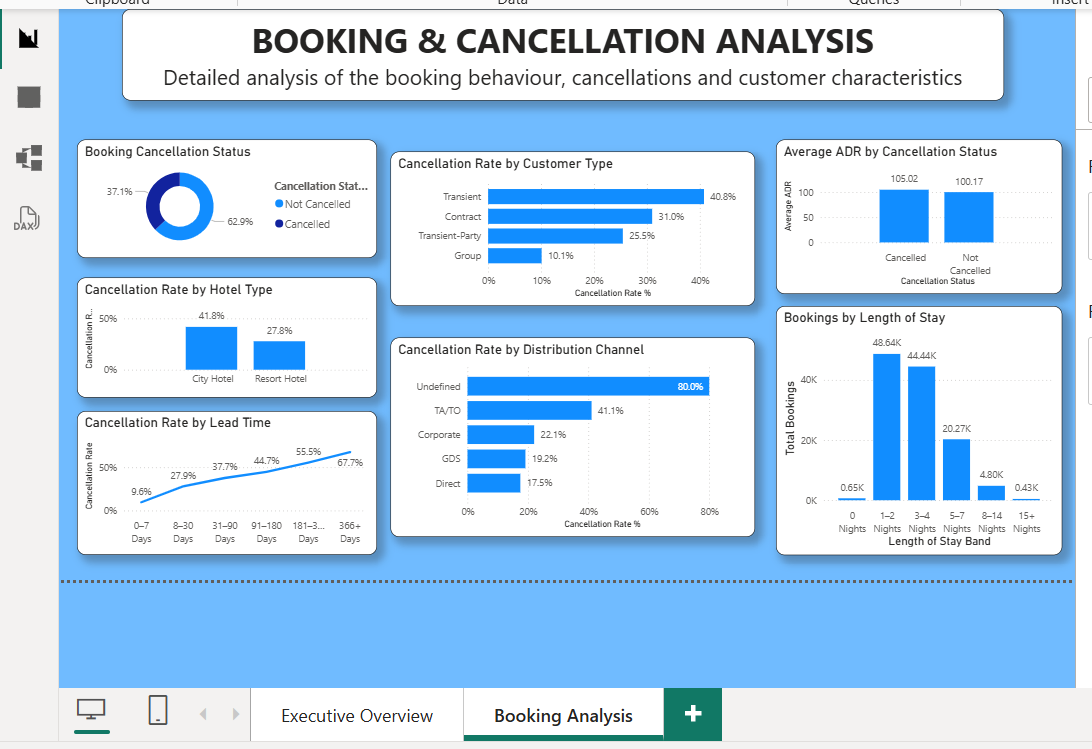

This screenshot's page, from the dashboard's own definition file:
{"tool":"powerbi","page":{"name":"Booking Analysis","canvas":[1280,720],"ordinal":1},"visuals":[{"type":"textbox","box":[79.4,0,1111.2,115.3],"z":0},{"type":"donutChart","title":"Booking Cancellation Status","fields":{"Y":["FactBookings.Total Bookings"],"Category":["FactBookings.Cancellation Status"]},"box":[22.7,164.4,378,149.3],"z":1},{"type":"clusteredColumnChart","title":"Cancellation Rate by Hotel Type","fields":{"Category":["DimHotel.hotel"],"Y":["FactBookings.Cancellation Rate %"]},"box":[22.7,338.3,378,151.2],"z":2},{"type":"lineChart","title":"Cancellation Rate by Lead Time","fields":{"Y":["FactBookings.Cancellation Rate %"],"Category":["FactBookings.Lead Time Band"]},"box":[22.7,506.5,378,181.4],"z":3},{"type":"clusteredBarChart","title":"Cancellation Rate by Customer Type","fields":{"Category":["DimCustomerType.customer_type"],"Y":["FactBookings.Cancellation Rate %"]},"box":[417.6,179.5,459.2,194.6],"z":4},{"type":"clusteredBarChart","title":"Cancellation Rate by Distribution Channel","fields":{"Y":["FactBookings.Cancellation Rate %"],"Category":["DimDistributionChannel.distribution_channel"]},"box":[417.6,413.9,459.2,251.3],"z":5},{"type":"clusteredColumnChart","fields":{"Category":["FactBookings.Cancellation Status"],"Y":["FactBookings.Average ADR"]},"box":[903.3,164.4,360.9,194.6],"z":6},{"type":"clusteredColumnChart","title":"Bookings by Length of Stay","fields":{"Category":["FactBookings.Length of Stay Band"],"Y":["FactBookings.Total Bookings"]},"box":[903.3,374.2,360.9,313.7],"z":7}]}

Visuals, with their boxes on the page's 1280x720 design canvas (x1, y1, x2, y2). These are canvas units, not pixel positions in the 1092x749 screenshot, which may show the page scaled, cropped or inside an application window:
textbox: rect(79, 0, 1191, 115)
"Booking Cancellation Status" donutChart: rect(23, 164, 401, 314)
"Cancellation Rate by Hotel Type" clusteredColumnChart: rect(23, 338, 401, 490)
"Cancellation Rate by Lead Time" lineChart: rect(23, 506, 401, 688)
"Cancellation Rate by Customer Type" clusteredBarChart: rect(418, 180, 877, 374)
"Cancellation Rate by Distribution Channel" clusteredBarChart: rect(418, 414, 877, 665)
clusteredColumnChart - FactBookings.Cancellation Status x FactBookings.Average ADR: rect(903, 164, 1264, 359)
"Bookings by Length of Stay" clusteredColumnChart: rect(903, 374, 1264, 688)
